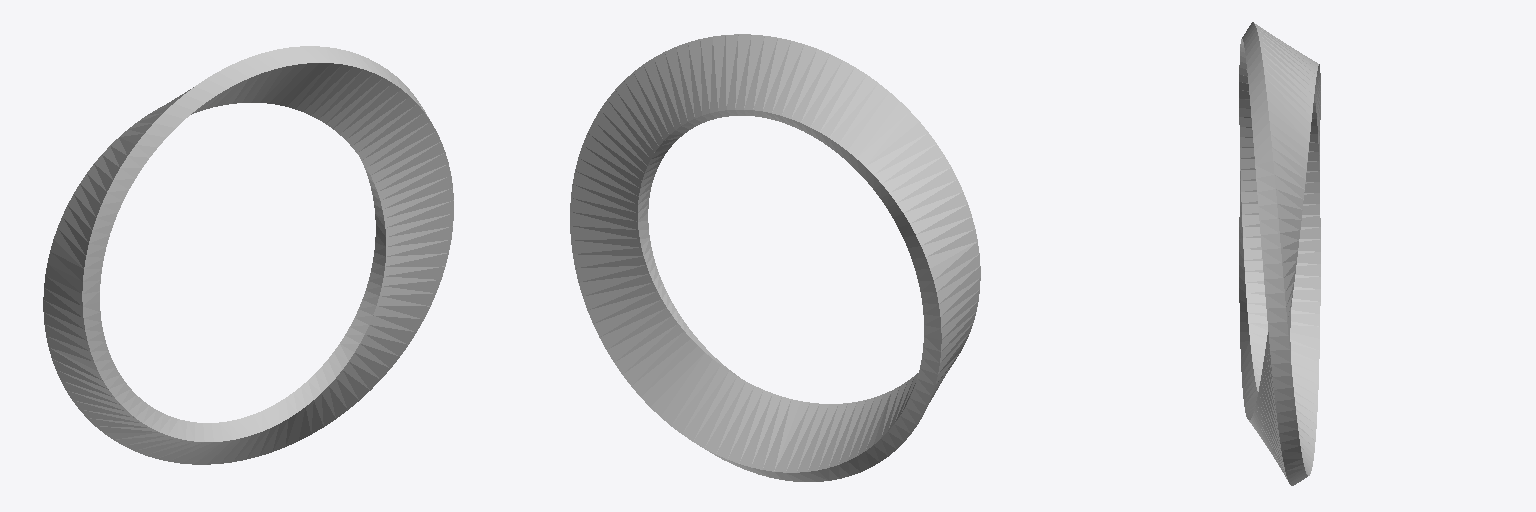
Rendered from mobius.obj.
The picture shows the model from 3 angles: view 1: azimuth 30°, elevation 25°; view 2: azimuth 150°, elevation 25°; view 3: azimuth 270°, elevation 25°; orthographic projection.
Visible parts, largest first — view 1: OpenSCAD_Model; view 2: OpenSCAD_Model; view 3: OpenSCAD_Model.
Boxes of the visible parts, <box> form: OpenSCAD_Model: <box>43,46,453,464</box>; OpenSCAD_Model: <box>570,34,980,481</box>; OpenSCAD_Model: <box>1239,22,1320,485</box>.
Bounding box in the file's own units: 113 × 118 × 20.61.